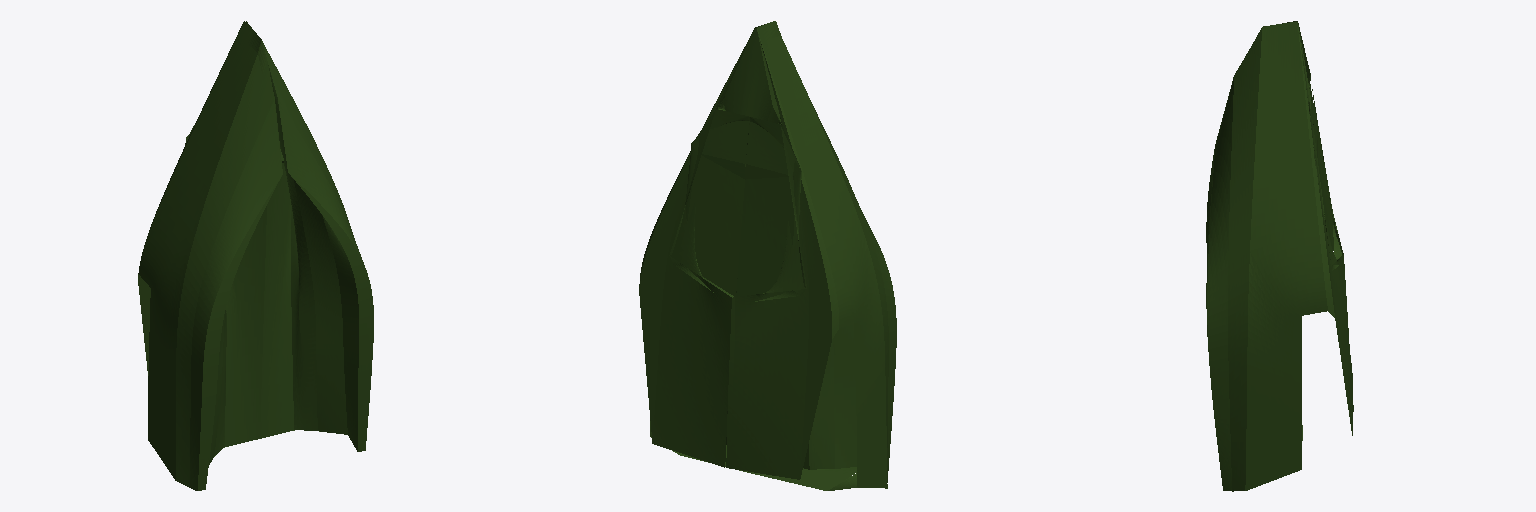
The robot description file, URDF, robot "snakebot_v1":
<?xml version="1.0" encoding="utf-8"?>
<robot name="snakebot_v1">

  <material name="Blue">
    <color rgba="0.2 0.1 0.8 1.0"/>
  </material>
  <material name="Green">
    <color rgba="0.22 0.32 0.14 1.0"/>
  </material>
  <!-- define base link and join it to dummy_link -->
  <!-- attach the base_link to dummy_link -->
  <link name="dummy_link">
  </link>
  <joint
    name="dummy_joint"
    type="fixed">
    <parent
      link="dummy_link"/>
    <child
      link="base_link"/>
  </joint> 

  <link name="base_link">
    <visual>
      <origin
        xyz="0. 0. 0."
        rpy="1.57079632679 0 1.57079632679"
      />
      <geometry>
        <mesh
          filename="package://snakebot_v1/meshes/bridge.stl" scale="0.0013 0.0013 0.0013"/>
      </geometry>
      <material name="Blue"/>
    </visual>
    <collision>
      <origin
        xyz="0. 0. 0."
        rpy="1.57079632679 0 1.57079632679"/>
      <geometry>
        <mesh
          filename="package://snakebot_v1/meshes/bridge.stl" scale="0.0013 0.0013 0.0013"/>
      </geometry>
    </collision>
    <inertial>
      <origin xyz="0 0 0.036" rpy="0 0 0"/>
      <mass value="1"/>
      <inertia
    ixx="0.1" ixy="0.0" ixz="0.0"
    iyy="0.1" iyz="0.0"
    izz="0.05"/>
    </inertial>
  </link>
<!-- define base link and join it to world -->
  <joint name="rod_one_joint" type="revolute">
    <origin
      xyz="0. 0. 0."
      rpy="0. 0. -1.57079632679"
    />
    <parent link="base_link"/>
    <child link="link2"/>
    <limit effort="1000" lower="-3.14" upper="3.14" velocity="0.3"/>
    
  </joint>

  <link name="link2">
    <visual>
      <origin
        xyz="0. 0. 0.072"
        rpy="1.57079632679 0 0."
      />
      <geometry>
        <mesh
          filename="package://snakebot_v1/meshes/bridge.stl" scale="0.0013 0.0013 0.0013"/>
      </geometry>
      <material name="Green"/>
    </visual>
    <collision>
      <origin
        xyz="0. 0. 0."
        rpy="1.57079632679 0 0."/>
      <geometry>
        <mesh
          filename="package://snakebot_v1/meshes/bridge.stl" scale="0.0013 0.0013 0.0013"/>
      </geometry>
    </collision>
    <inertial>
      <origin xyz="0 0 0.036" rpy="0 0 0"/>
      <mass value="1"/>
      <inertia
      ixx="0.1" ixy="0.0" ixz="0.0"
      iyy="0.1" iyz="0.0"
      izz="0.05"/>
      </inertial>
  </link>

  <joint name="rod_two_joint" type="revolute">
    <origin
      xyz="0. 0. 0.072"
      rpy="0. 0. 1.57079632679"
    />
    <parent link="link2"/>
    <child link="link3"/>
    
    <limit effort="1000" lower="-3.14" upper="3.14" velocity="0.3"/>
    
  </joint>

  <link name="link3">
    <visual>
      <origin
        xyz="0. 0. 0.072"
        rpy="1.57079632679 0 1.57079632679"
      />
      <geometry>
        <mesh
          filename="package://snakebot_v1/meshes/bridge.stl" scale="0.0013 0.0013 0.0013"/>
      </geometry>
      <material name="Green"/>
    </visual>
    <collision>
      <origin
        xyz="0. 0. 0."
        rpy="1.57079632679 0 1.57079632679"/>
      <geometry>
        <mesh
          filename="package://snakebot_v1/meshes/bridge.stl" scale="0.0013 0.0013 0.0013"/>
      </geometry>
    </collision>
    <inertial>
      <origin xyz="0 0 0.036" rpy="0 0 0"/>
      <mass value="1"/>
      <inertia
      ixx="0.1" ixy="0.0" ixz="0.0"
      iyy="0.1" iyz="0.0"
      izz="0.05"/>
    </inertial>
  </link>

  <joint name="rod_three_joint" type="revolute">
    <origin
      xyz="0. 0. 0.072"
      rpy="0. 0. -1.57079632679"
    />
    <parent link="link3"/>
    <child link="link4"/>
    
    <limit effort="1000" lower="-3.14" upper="3.14" velocity="0.3"/>
    
  </joint>

  <link name="link4">
    <visual>
      <origin
        xyz="0. 0. 0.072"
        rpy="1.57079632679 0 0."
      />
      <geometry>
        <mesh
          filename="package://snakebot_v1/meshes/bridge.stl" scale="0.0013 0.0013 0.0013"/>
      </geometry>
      <material name="Green"/>
    </visual>
    <collision>
      <origin
        xyz="0. 0. 0."
        rpy="1.57079632679 0 0"/>
      <geometry>
        <mesh
          filename="package://snakebot_v1/meshes/bridge.stl" scale="0.0013 0.0013 0.0013"/>
      </geometry>
    </collision>
    <inertial>
      <origin xyz="0 0 0.036" rpy="0 0 0"/>
      <mass value="1"/>
      <inertia
      ixx="0.1" ixy="0.0" ixz="0.0"
      iyy="0.1" iyz="0.0"
      izz="0.05"/>
    </inertial>
  </link>

  <joint name="rod_four_joint" type="revolute">
    <origin xyz="0. 0. 0.072"
      rpy="0. 0. 1.57079632679"
    />
    <parent link="link4"/>
    <child link="link5"/>
    
    <limit effort="1000" lower="-3.14" upper="3.14" velocity="0.3"/>
    
  </joint>

  <link name="link5">
    <visual>
      <origin
        xyz="0. 0. 0.072"
        rpy="1.57079632679 0 1.57079632679"
      />
      <geometry>
        <mesh
          filename="package://snakebot_v1/meshes/bridge.stl" scale="0.0013 0.0013 0.0013"/>
      </geometry>
      <material name="Green"/>
    </visual>
    <collision>
      <origin
        xyz="0. 0. 0.0"
        rpy="1.57079632679 0 1.57079632679"/>
      <geometry>
        <mesh
          filename="package://snakebot_v1/meshes/bridge.stl" scale="0.0013 0.0013 0.0013"/>
      </geometry>
    </collision>
    <inertial>
      <origin xyz="0 0 0.036" rpy="0 0 0"/>
      <mass value="1"/>
      <inertia
      ixx="0.1" ixy="0.0" ixz="0.0"
      iyy="0.1" iyz="0.0"
      izz="0.05"/>
    </inertial>
  </link>

  <joint name="rod_five_joint" type="revolute">
    <origin
      xyz="0. 0. 0.072"
      rpy="0. 0. -1.57079632679"
    />
    <parent link="link5"/>
    <child link="link6"/>
    
    <limit effort="1000" lower="-3.14" upper="3.14" velocity="0.3"/>
    
  </joint>

  <link name="link6">
    <visual>
      <origin
        xyz="0. 0. 0.072"
        rpy="1.57079632679 0 0."
      />
      <geometry>
        <mesh
          filename="package://snakebot_v1/meshes/bridge.stl" scale="0.0013 0.0013 0.0013"/>
      </geometry>
      <material name="Green"/>
    </visual>
    <collision>
      <origin
        xyz="0. 0. 0.0"
        rpy="1.57079632679 0 0."
      />
      <geometry>
        <mesh
          filename="package://snakebot_v1/meshes/bridge.stl" scale="0.0013 0.0013 0.0013"/>
      </geometry>
    </collision>
    <inertial>
      <origin xyz="0 0 0.036" rpy="0 0 0"/>
      <mass value="1"/>
      <inertia
      ixx="0.1" ixy="0.0" ixz="0.0"
      iyy="0.1" iyz="0.0"
      izz="0.05"/>
    </inertial>
  </link>
<!--  -->
  <joint name="rod_six_joint" type="revolute">
    <origin
      xyz="0. 0. 0.072"
      rpy="0. 0. 1.57079632679"
    />
    <parent link="link6"/>
    <child link="link7"/>
    
    <limit effort="1000" lower="-3.14" upper="3.14" velocity="0.3"/>
    
  </joint>

  <link name="link7">
    <visual>
      <origin
        xyz="0. 0. 0.072"
        rpy="1.57079632679 0 1.57079632679"
      />
      <geometry>
        <mesh
          filename="package://snakebot_v1/meshes/bridge.stl" scale="0.0013 0.0013 0.0013"/>
      </geometry>
      <material name="Green"/>
    </visual>
    <collision>
      <origin
        xyz="0. 0. 0.0"
        rpy="1.57079632679 0 1.57079632679"
      />
      <geometry>
        <mesh
          filename="package://snakebot_v1/meshes/bridge.stl" scale="0.0013 0.0013 0.0013"/>
      </geometry>
    </collision>
    <inertial>
      <origin xyz="0 0 0.036" rpy="0 0 0"/>
      <mass value="1"/>
      <inertia
      ixx="0.1" ixy="0.0" ixz="0.0"
      iyy="0.1" iyz="0.0"
      izz="0.05"/>
    </inertial>
  </link>
<!--  -->
  <joint name="rod_seven_joint" type="revolute">
    <origin
      xyz="0. 0. 0.072"
      rpy="0. 0. -1.57079632679"
    />
    <parent link="link7"/>
    <child link="link8"/>
    <limit effort="1000" lower="-3.14" upper="3.14" velocity="0.3"/>
  </joint>

  <link name="link8">
    <visual>
      <origin
        xyz="0. 0. 0.072"
        rpy="1.57079632679 0 0."
      />
      <geometry>
        <mesh
          filename="package://snakebot_v1/meshes/bridge.stl" scale="0.0013 0.0013 0.0013"/>
      </geometry>
      <material name="Green"/>
    </visual>
    <collision>
      <origin
        xyz="0. 0. 0.0"
        rpy="1.57079632679 0 0."
      />
      <geometry>
        <mesh
          filename="package://snakebot_v1/meshes/bridge.stl" scale="0.0013 0.0013 0.0013"/>
      </geometry>
    </collision>
    <inertial>
      <origin xyz="0 0 0.036" rpy="0 0 0"/>
      <mass value="1"/>
      <inertia
      ixx="0.1" ixy="0.0" ixz="0.0"
      iyy="0.1" iyz="0.0"
      izz="0.05"/>
    </inertial>
  </link>

<!--  -->
  <joint name="rod_eight_joint" type="revolute">
    <origin
      xyz="0. 0. 0.072"
      rpy="0. 0. 1.57079632679"
    />
    <parent link="link8"/>
    <child link="link9"/>
    <limit effort="1000" lower="-3.14" upper="3.14" velocity="0.3"/>
  </joint>

  <link name="link9">
    <visual>
      <origin
        xyz="0. 0. 0.072"
        rpy="1.57079632679 0 1.57079632679"
      />
      <geometry>
        <mesh
          filename="package://snakebot_v1/meshes/bridge.stl" scale="0.0013 0.0013 0.0013"/>
      </geometry>
      <material name="Green"/>
    </visual>
    <collision>
      <origin
        xyz="0. 0. 0.0"
        rpy="1.57079632679 0 1.57079632679"
      />
      <geometry>
        <mesh
          filename="package://snakebot_v1/meshes/bridge.stl" scale="0.0013 0.0013 0.0013"/>
      </geometry>
    </collision>
    <inertial>
      <origin xyz="0 0 0.036" rpy="0 0 0"/>
      <mass value="1"/>
      <inertia
      ixx="0.1" ixy="0.0" ixz="0.0"
      iyy="0.1" iyz="0.0"
      izz="0.05"/>
    </inertial>
  </link>

  <!--  -->
  <joint name="rod_nine_joint" type="revolute">
    <origin
      xyz="0. 0. 0.072"
      rpy="0. 0. -1.57079632679"
    />
    <parent link="link9"/>
    <child link="link10"/>
    <limit effort="1000" lower="-3.14" upper="3.14" velocity="0.3"/>
  </joint>

  <link name="link10">
    <visual>
      <origin
        xyz="0. 0. 0.072"
        rpy="1.57079632679 0 0."
      />
      <geometry>
        <mesh
          filename="package://snakebot_v1/meshes/bridge.stl" scale="0.0013 0.0013 0.0013"/>
      </geometry>
      <material name="Green"/>
    </visual>
    <collision>
      <origin
        xyz="0. 0. 0.0"
        rpy="1.57079632679 0 0."
      />
      <geometry>
        <mesh
          filename="package://snakebot_v1/meshes/bridge.stl" scale="0.0013 0.0013 0.0013"/>
      </geometry>
    </collision>
    <inertial>
      <origin xyz="0 0 0.036" rpy="0 0 0"/>
      <mass value="1"/>
      <inertia
      ixx="0.1" ixy="0.0" ixz="0.0"
      iyy="0.1" iyz="0.0"
      izz="0.05"/>
    </inertial>
  </link>

<!--  -->

  <joint name="rod_ten_joint" type="revolute">
    <origin
      xyz="0. 0. 0.072"
      rpy="0. 0. 1.57079632679"
    />
    <parent link="link10"/>
    <child link="headlink"/>
    <limit effort="1000" lower="-3.14" upper="3.14" velocity="0.3"/>
  </joint>

  <link name="headlink">
    <visual>
      <origin
        xyz="0.00 -0.009 0.01"
        rpy="0 0 0"
      />
      <geometry>
        <mesh
          filename="package://snakebot_v1/meshes/head.stl" scale="0.008 0.012 0.008"/>
      </geometry>
      <material name="Green"/>
    </visual>
    <collision>
      <origin
        xyz="0.00 -0.009 0.01"
        rpy="0 0 0"/>
      <geometry>
        <mesh
          filename="package://snakebot_v1/meshes/head.stl" scale="0.008 0.012 0.008"/>
      </geometry>
    </collision>
    <inertial>
      <origin xyz="0 0 0.0" rpy="0 0 0"/>
      <mass value="1"/>
      <inertia
      ixx="0.1" ixy="0.0" ixz="0.0"
      iyy="0.1" iyz="0.0"
      izz="0.05"/>
    </inertial>
  </link>

</robot>

--- Facts derived from the render (not from the file) ---
Views: 3 orthographic renders of the robot side by side, from view 1: azimuth 30°, elevation 25°; view 2: azimuth 150°, elevation 25°; view 3: azimuth 270°, elevation 25°.
Robot: snakebot_v1 — 12 links, 11 joints (10 revolute, 1 fixed); root link dummy_link; default pose: all joints at 0.
Visible links, largest first — view 1: headlink; view 2: headlink; view 3: headlink.
Boxes of the visible links, bbox=[...] form: headlink: bbox=[138, 21, 373, 490]; headlink: bbox=[639, 21, 896, 490]; headlink: bbox=[1206, 21, 1353, 491].
Size in the robot's own frame: 0.0587 by 0.0389 by 0.1248 metres.
1 mesh visuals loaded from 2 distinct referenced files (1 binary STL); not drawn: 10 (reference not matched to a file when rendering).